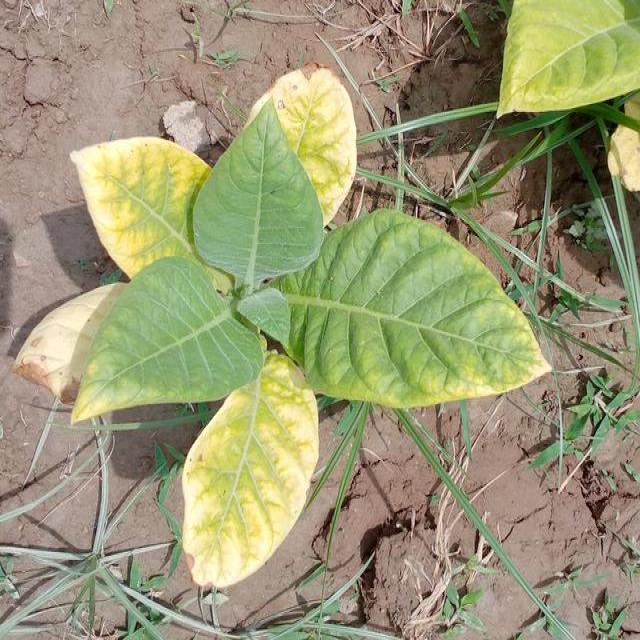crop: (12, 62, 553, 588)
